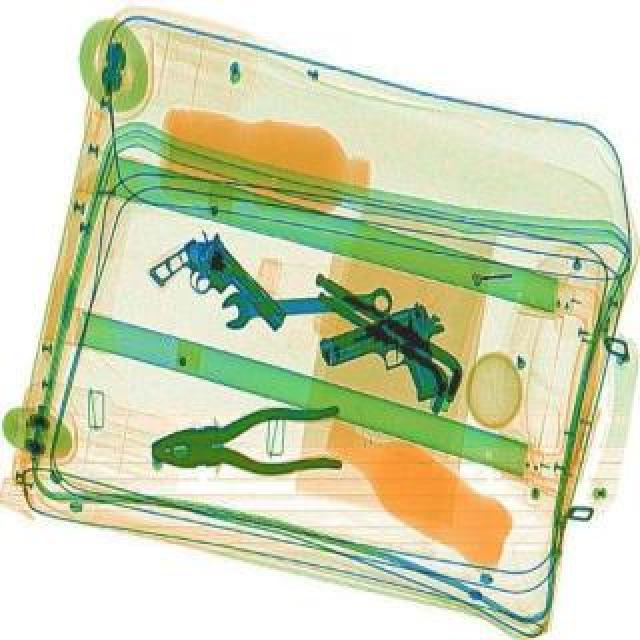gun: (142, 222, 294, 366), (316, 296, 466, 424)
scissors: (218, 276, 392, 328)
wrench: (148, 402, 344, 482)
